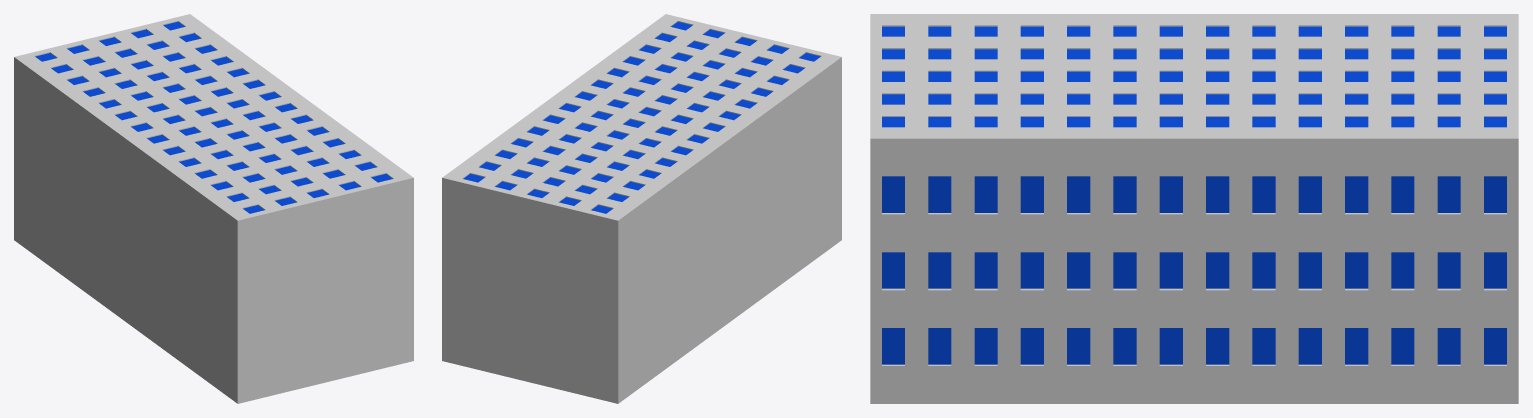
File: asset.glb
The picture shows the model from 3 angles, left to right: view 1: azimuth 30°, elevation 25°; view 2: azimuth 150°, elevation 25°; view 3: azimuth 270°, elevation 25°; orthographic projection. The views are drawn at different scales.
Visible parts, largest first — view 1: Cube.001; view 2: Cube.001; view 3: Cube.001.
Boxes of the visible parts, left/top/right/bottom form: Cube.001: left=14, top=14, right=413, bottom=403; Cube.001: left=442, top=14, right=841, bottom=403; Cube.001: left=870, top=14, right=1518, bottom=403.
Size of the model in its own units: 2.53 by 2.52 by 5.57.
